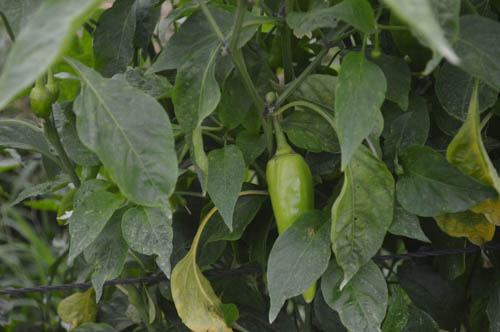ChiliPepper: (269, 156, 317, 305)
